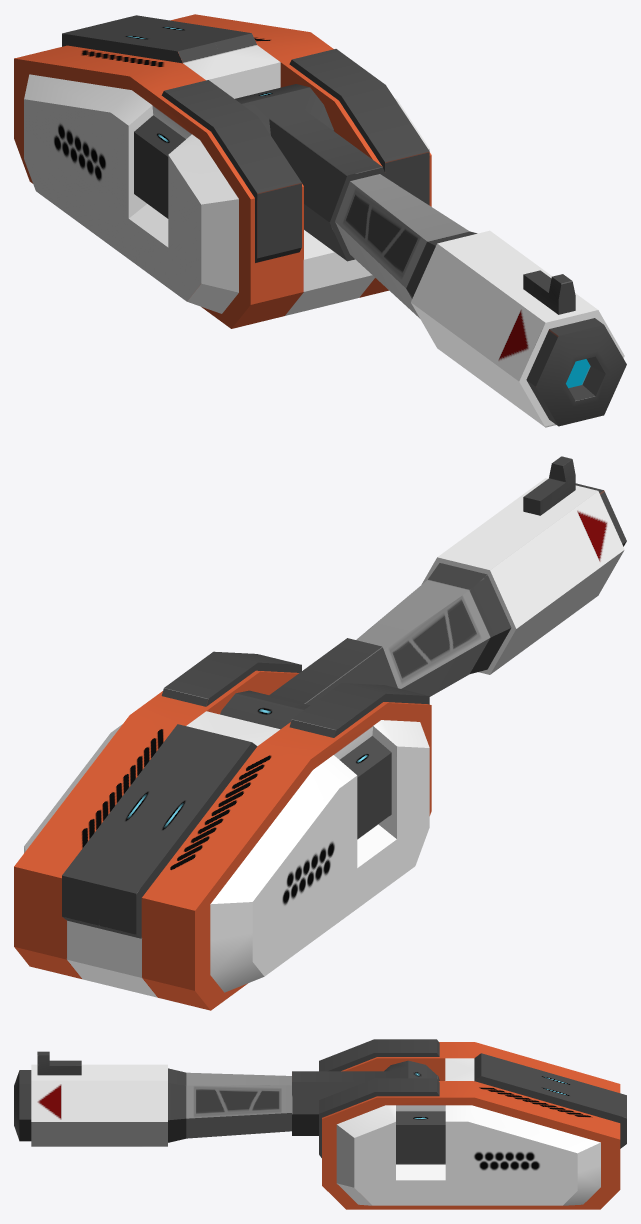
The model's file is SKTCHFABONE.obj.
3 views of the same model, one above another, from view 1: azimuth 30°, elevation 25°; view 2: azimuth 150°, elevation 25°; view 3: azimuth 270°, elevation 25° (orthographic). The views are drawn at different scales.
Visible parts, largest first — view 1: S_Base_Cube.004, S_Barrels_Cube.005; view 2: S_Base_Cube.004, S_Barrels_Cube.005; view 3: S_Base_Cube.004, S_Barrels_Cube.005.
Part boxes in pixels (left/top/right/bottom): S_Base_Cube.004: left=14, top=14, right=431, bottom=328; S_Barrels_Cube.005: left=235, top=84, right=626, bottom=427; S_Base_Cube.004: left=14, top=651, right=431, bottom=1010; S_Barrels_Cube.005: left=220, top=456, right=626, bottom=729; S_Base_Cube.004: left=319, top=1039, right=626, bottom=1209; S_Barrels_Cube.005: left=14, top=1051, right=439, bottom=1146.
Size of the model in its own units: 1.69 by 1.44 by 6.22.
